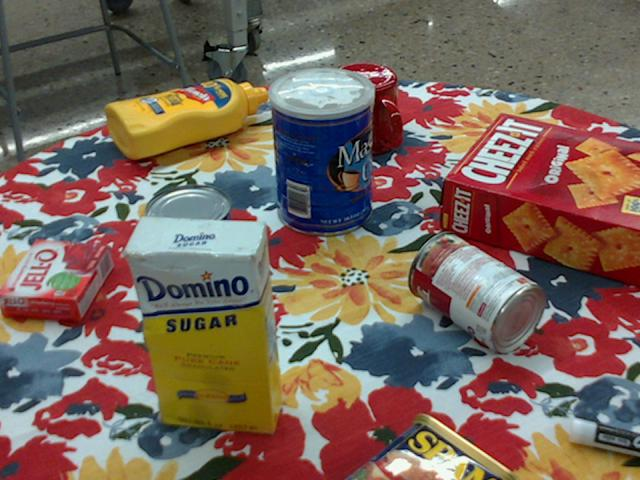cracker_box: (440, 113, 639, 288)
gelatin_box: (0, 242, 113, 324)
large_marker: (571, 415, 639, 455)
master_chef_can: (269, 67, 375, 237)
mug: (324, 63, 402, 156)
mustard_bottle: (103, 79, 266, 158)
potted_meat_can: (346, 413, 525, 479)
sugar_box: (121, 214, 284, 434)
tomato_soup_can: (409, 232, 547, 352)
tuna_fish_can: (143, 185, 231, 257)
